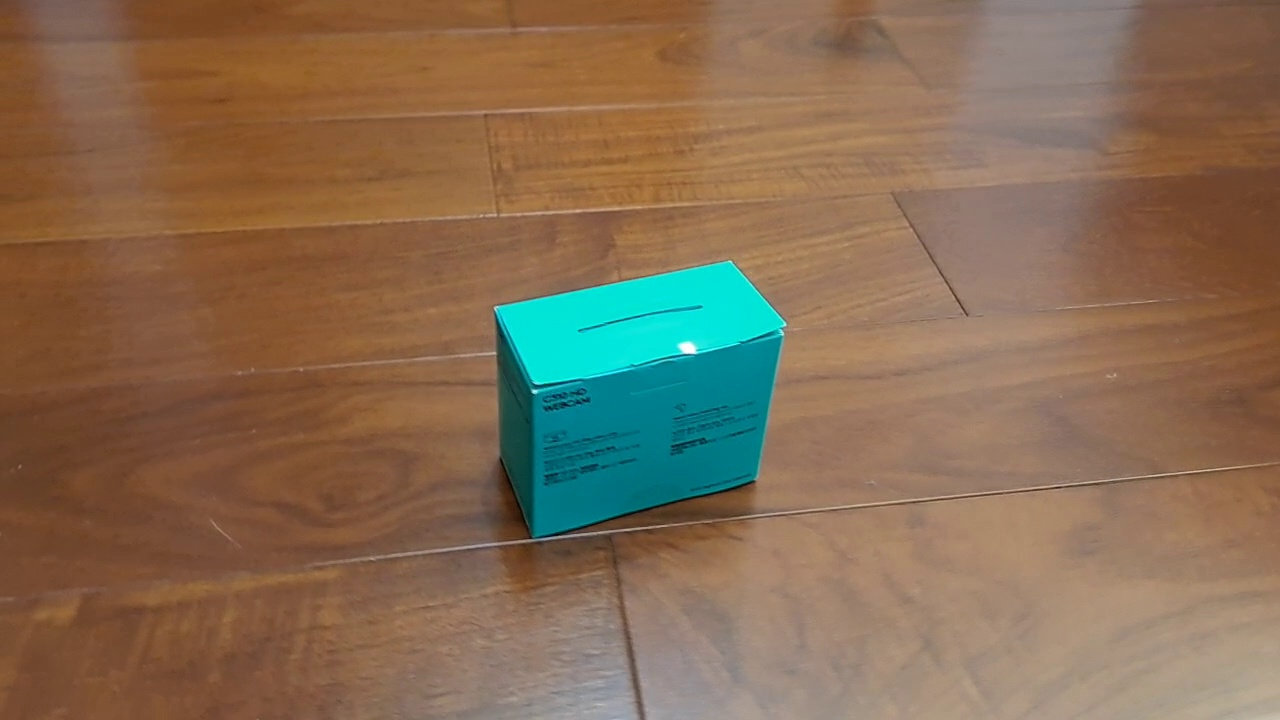webcam: (491, 258, 788, 541)
